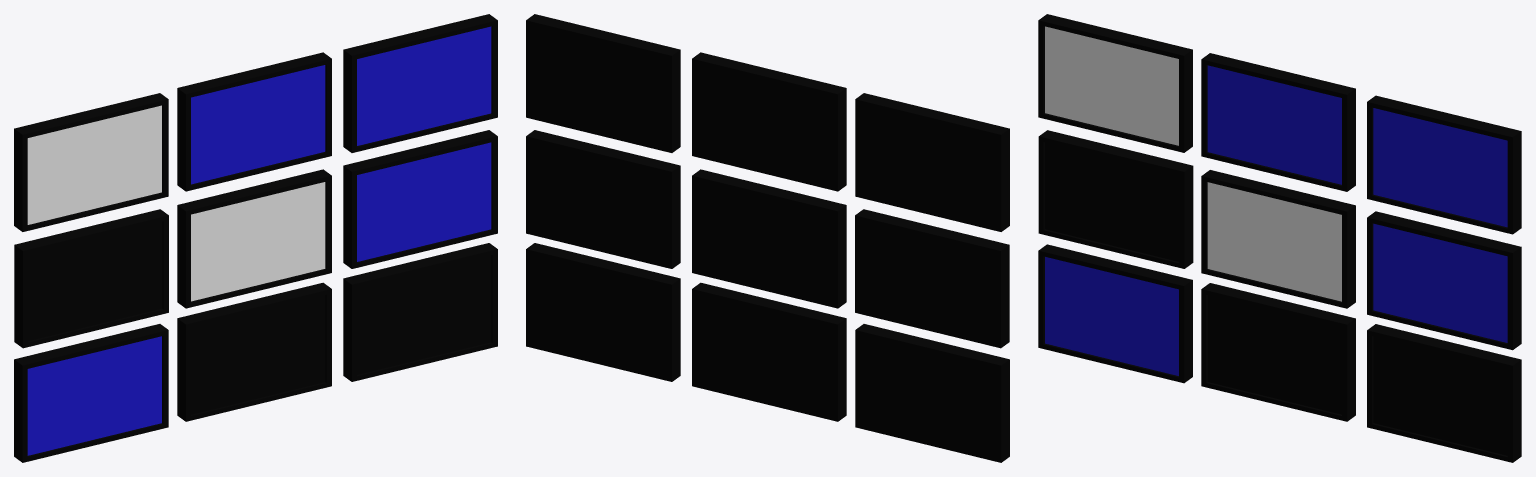
File: Monitors.fbx
3 views of the same model, side by side, from view 1: azimuth 30°, elevation 25°; view 2: azimuth 150°, elevation 25°; view 3: azimuth 330°, elevation 25° (orthographic).
Parts seen in each view (by area): view 1: Cube.002, Cube.005, Cube.007, Cube.001, Cube.008, Cube.004, Cube.003, Cube.006, Cube.009; view 2: Cube.002, Cube.005, Cube.007, Cube.001, Cube.008, Cube.004, Cube.003, Cube.006, Cube.009; view 3: Cube.004, Cube.003, Cube.006, Cube.001, Cube.005, Cube.009, Cube.002, Cube.007, Cube.008.
Boxes of the visible parts, x1,y1,x2,y2 form: Cube.002: (177, 52, 331, 191); Cube.005: (177, 169, 331, 308); Cube.007: (177, 282, 331, 421); Cube.001: (14, 93, 168, 231); Cube.008: (343, 130, 497, 268); Cube.004: (14, 209, 168, 348); Cube.003: (343, 14, 497, 152); Cube.006: (14, 324, 168, 462); Cube.009: (343, 243, 497, 381); Cube.002: (692, 52, 846, 191); Cube.005: (692, 169, 846, 308); Cube.007: (692, 282, 846, 421); Cube.001: (855, 93, 1009, 231); Cube.008: (526, 130, 680, 268); Cube.004: (855, 209, 1009, 348); Cube.003: (526, 14, 680, 152); Cube.006: (855, 324, 1009, 462); Cube.009: (526, 243, 680, 381); Cube.004: (1038, 130, 1193, 268); Cube.003: (1367, 95, 1521, 234); Cube.006: (1038, 244, 1192, 383); Cube.001: (1038, 14, 1192, 152); Cube.005: (1201, 170, 1355, 308); Cube.009: (1367, 324, 1521, 462); Cube.002: (1201, 53, 1355, 191); Cube.007: (1201, 283, 1355, 421); Cube.008: (1367, 211, 1521, 350).
Bounding box in the file's own units: 1314 × 869 × 41.31.
